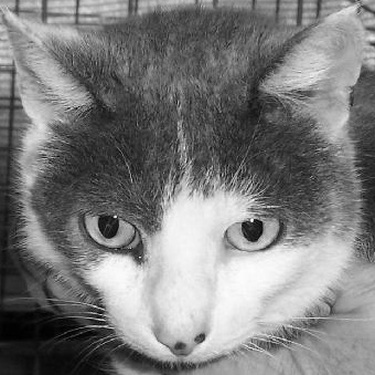cat: (3, 2, 368, 368)
